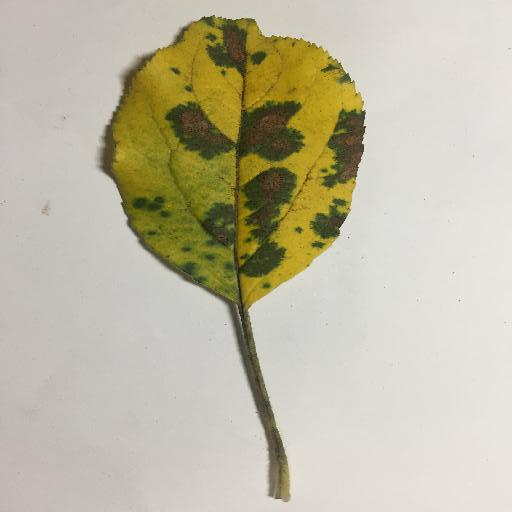Brown_Spot: (173, 107, 228, 144), (245, 112, 296, 148), (346, 114, 361, 178), (224, 31, 251, 65), (266, 172, 285, 196), (256, 214, 280, 227), (215, 229, 227, 243), (329, 221, 344, 228)
